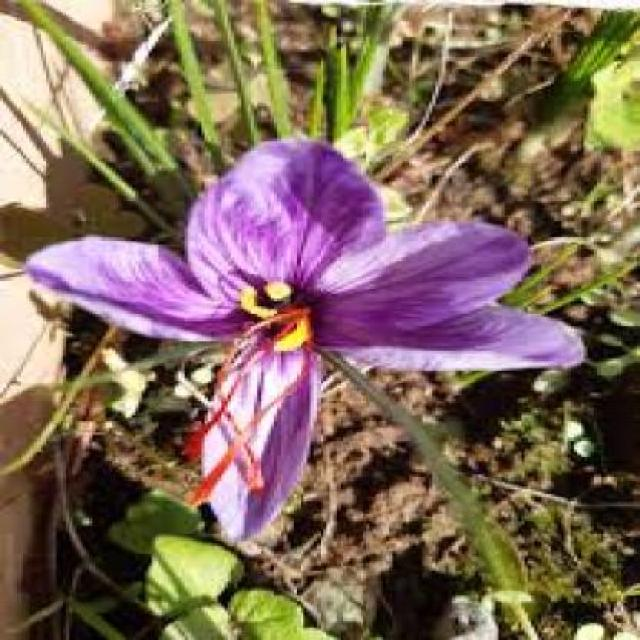Flower: (33, 140, 590, 542)
stigma: (186, 358, 314, 508), (187, 368, 250, 454)
